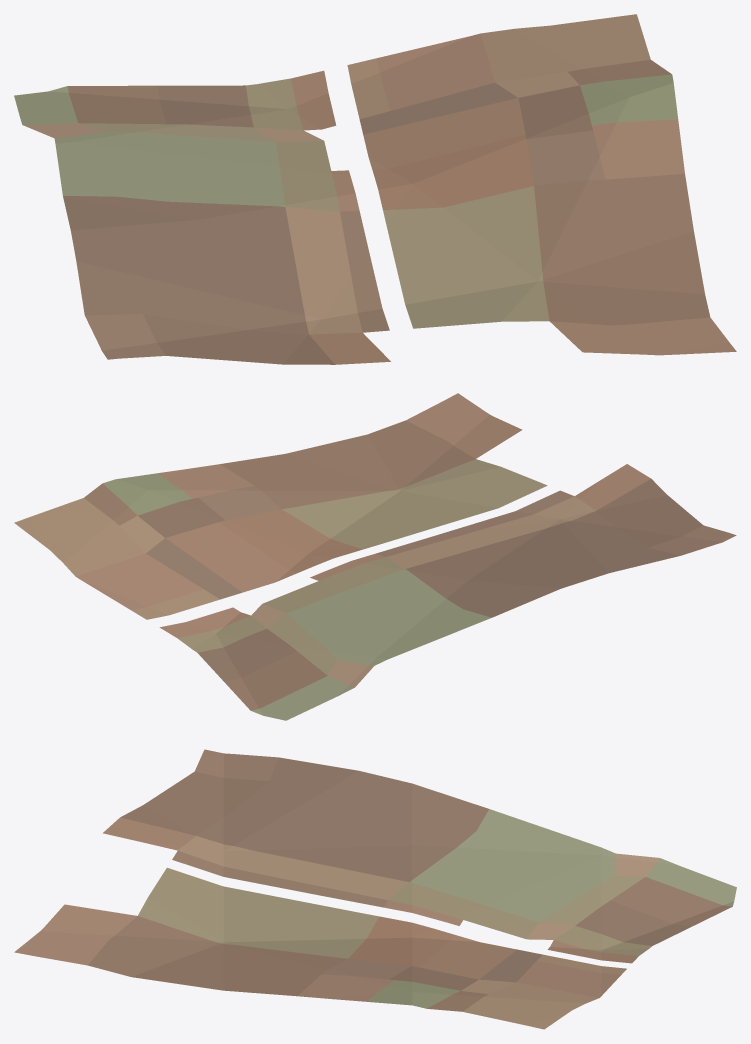
File: farm_-34_-30_soil.glb
3 views of the same model, one above another, from view 1: azimuth 30°, elevation 25°; view 2: azimuth 150°, elevation 25°; view 3: azimuth 270°, elevation 25° (orthographic). The views are drawn at different scales.
Visible parts, largest first — view 1: geometry_0; view 2: geometry_0; view 3: geometry_0.
Boxes of the visible parts, x1,y1,x2,y2 form: geometry_0: (14, 14, 736, 364); geometry_0: (14, 393, 736, 720); geometry_0: (14, 749, 736, 1029).
Bounding box in the file's own units: 279 × 23.01 × 306.
